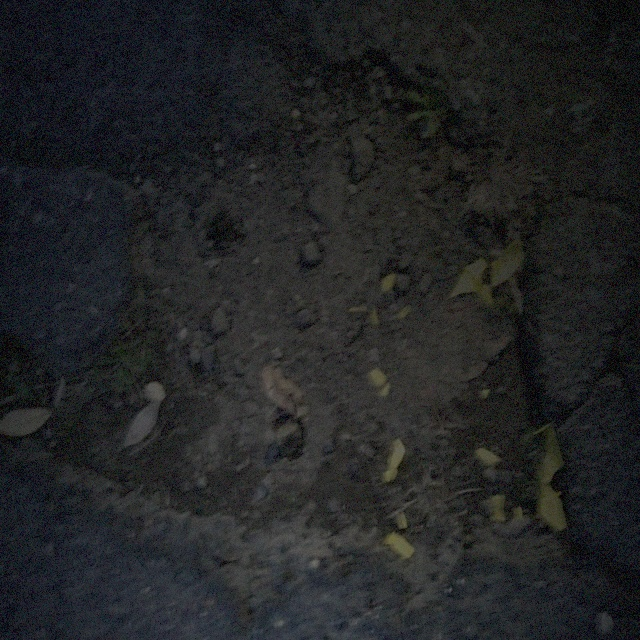pothole: (68, 35, 576, 574)
